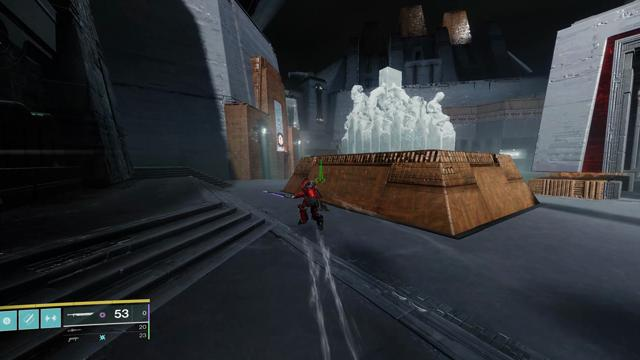worship: (278, 135, 283, 145)
